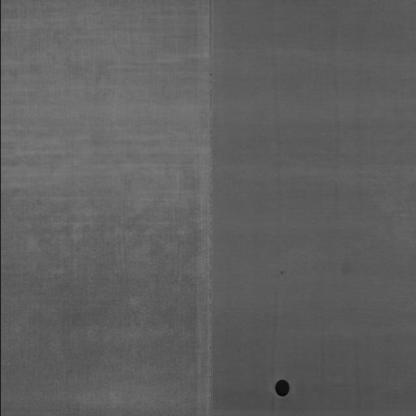punching_hole: (269, 378, 293, 400)
welding_line: (195, 1, 224, 415)
